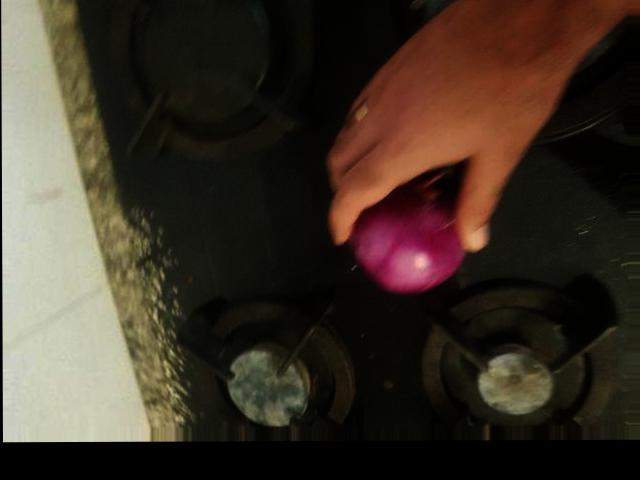onion: (348, 173, 469, 293)
